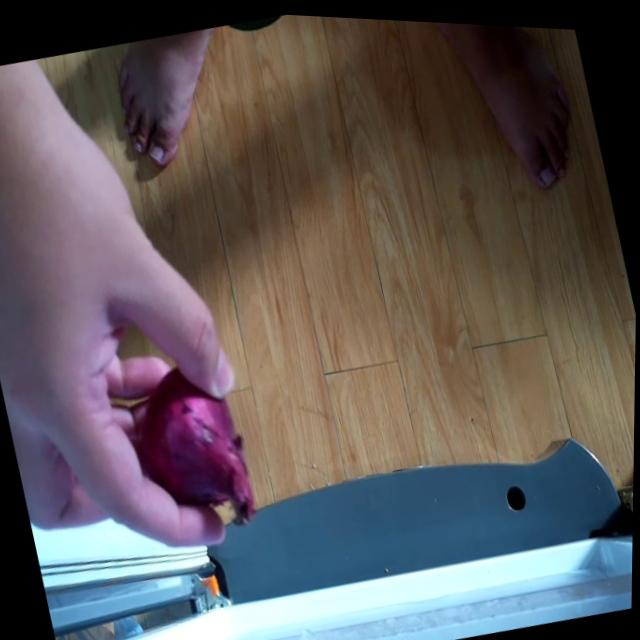onion: (121, 345, 262, 544)
